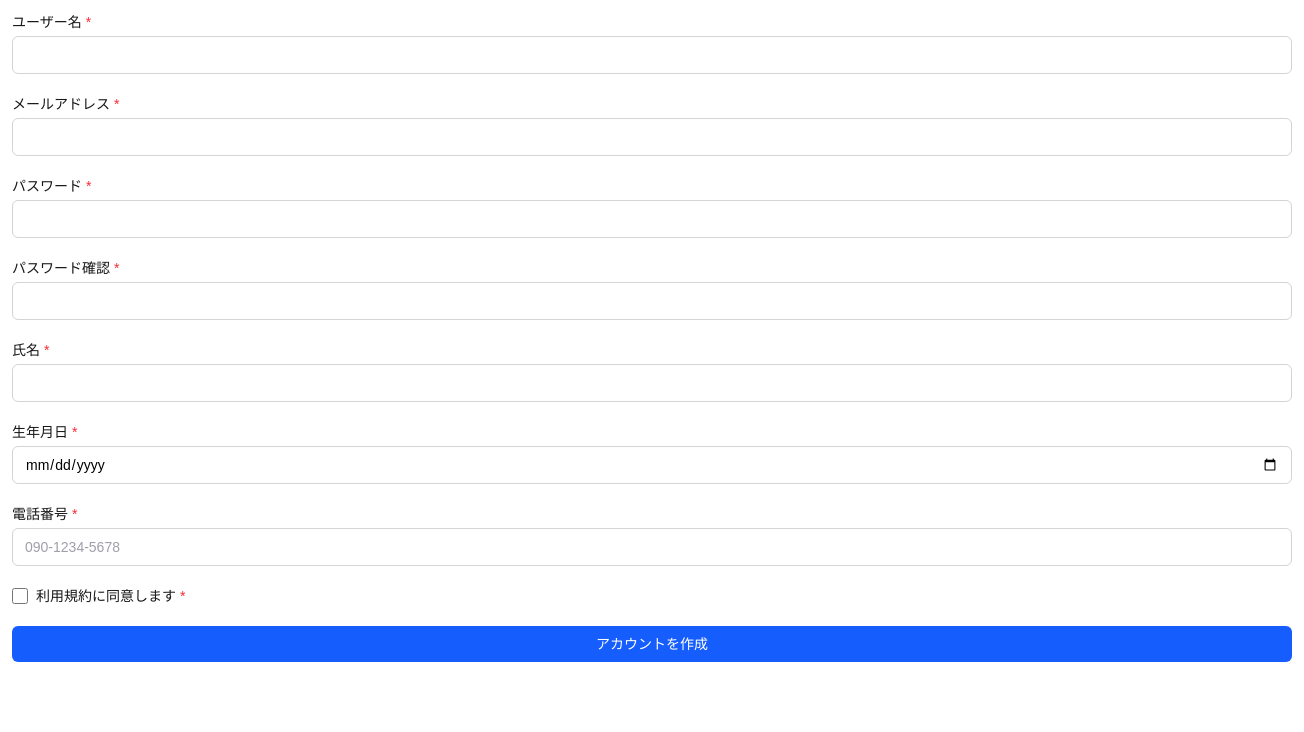
Test: RegisterForm › 電話番号のフォーマットが不正な場合エラーが表示される
In the field labelled "電話番号*": (652, 547) [12,528,1292,566], type "12345"
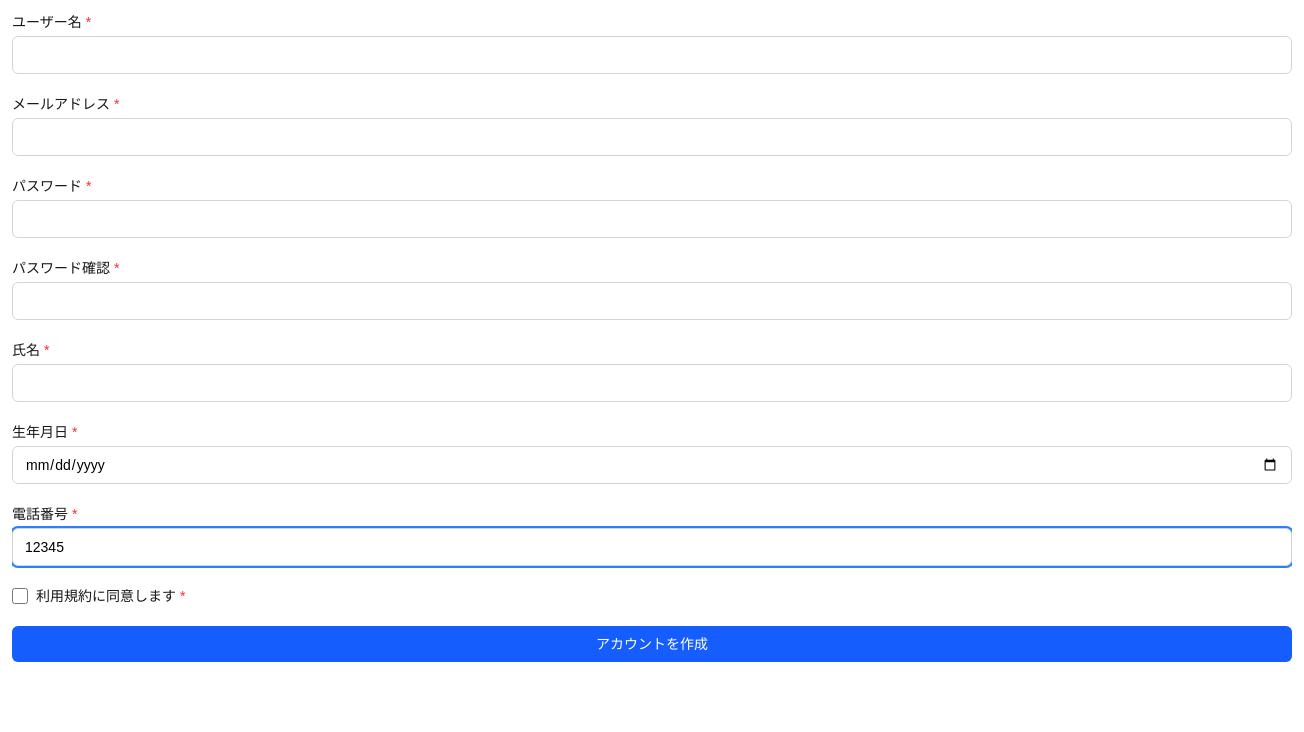
Click the button "アカウントを作成": (652, 644) [12,626,1292,662]
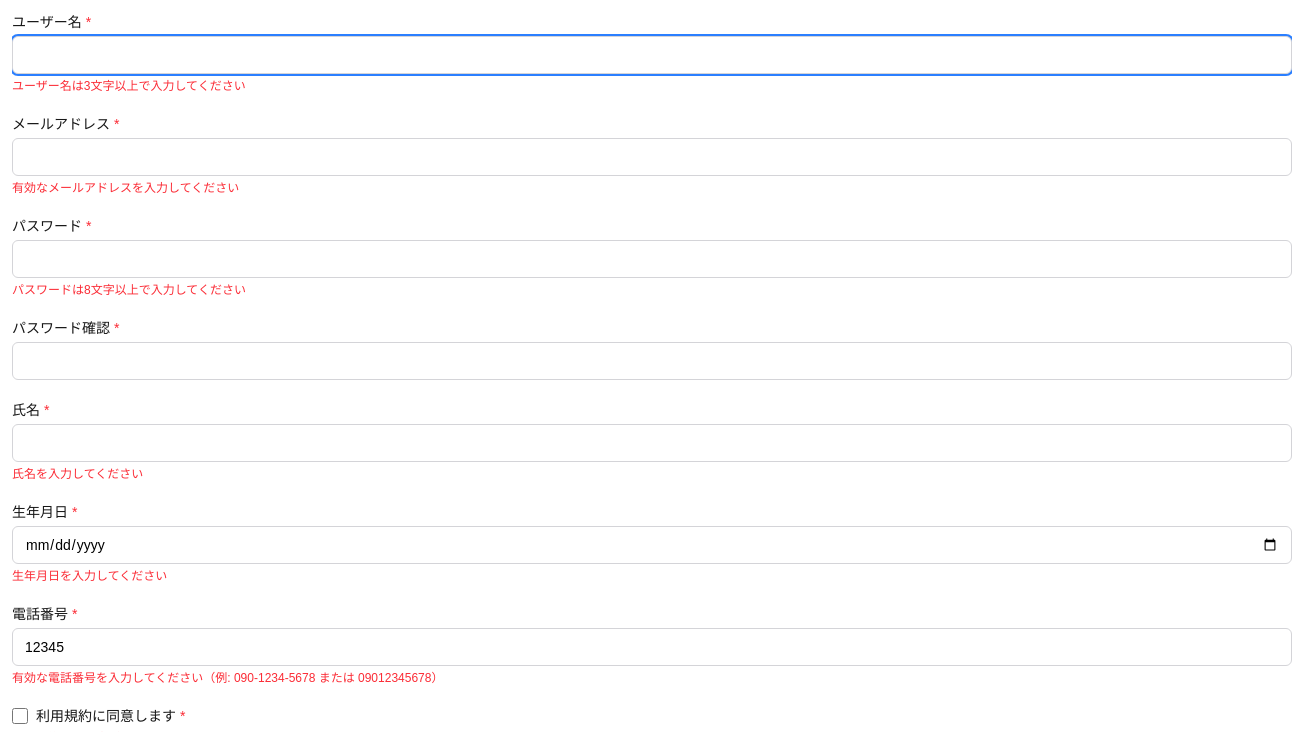
Now the text "有効な電話番号を入力してください（例: 090-1234-5678 または 09012345678）" is shown, box [12,671,443,685]
